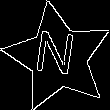N_S: (35, 30, 82, 85)
